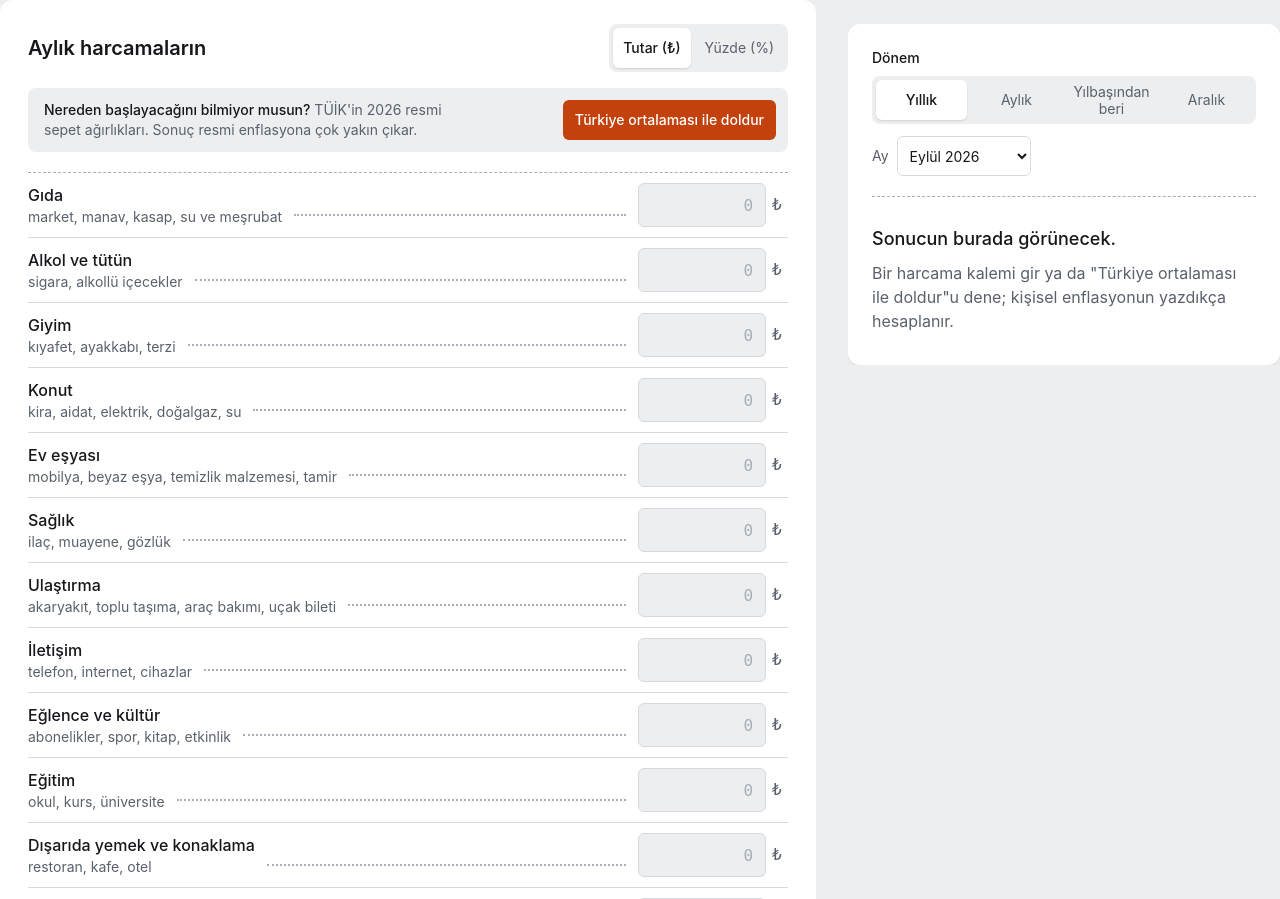
Test: Calculator › Türkiye ortalaması profiliyle doldurur; sonuç resmi rakama yakın çıkar
Click the button "Türkiye ortalaması ile doldur" at (669, 120), box [563,100,776,140]
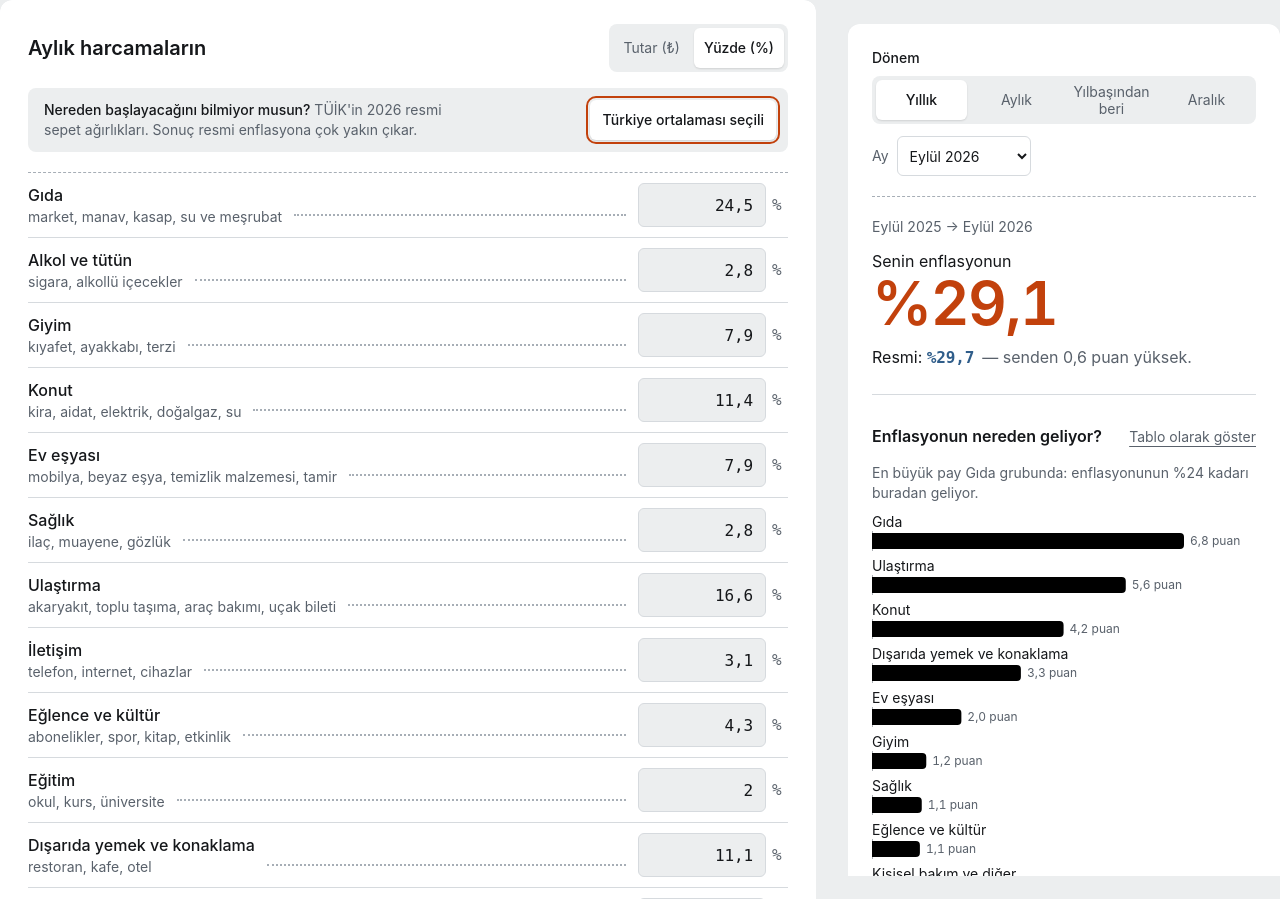
Expected: the text "%29,7" is shown, [927,348,974,367]
Result: the field labelled "Gıda" holds "24,5" at [638,183,766,227]
Result: the text "Resmi: %29,7" is shown at [872,345,974,370]
